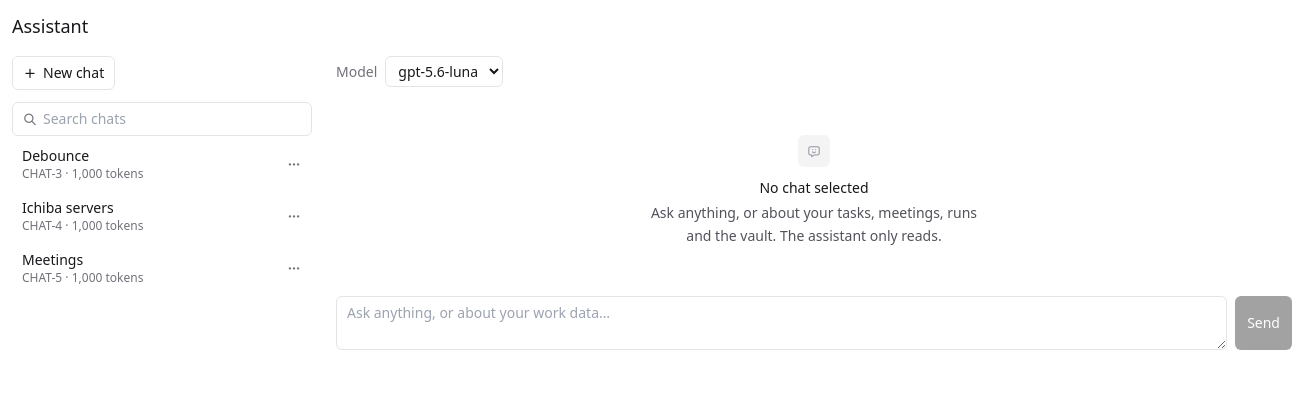
Test: chat list › AC-6: deleting the open chat empties the thread pane
The image size is (1304, 404).
Click the button "Debounce CHAT-3 · 1,000 tokens" at {"x": 144, "y": 164}, box x1=12 y1=140 x2=276 y2=188
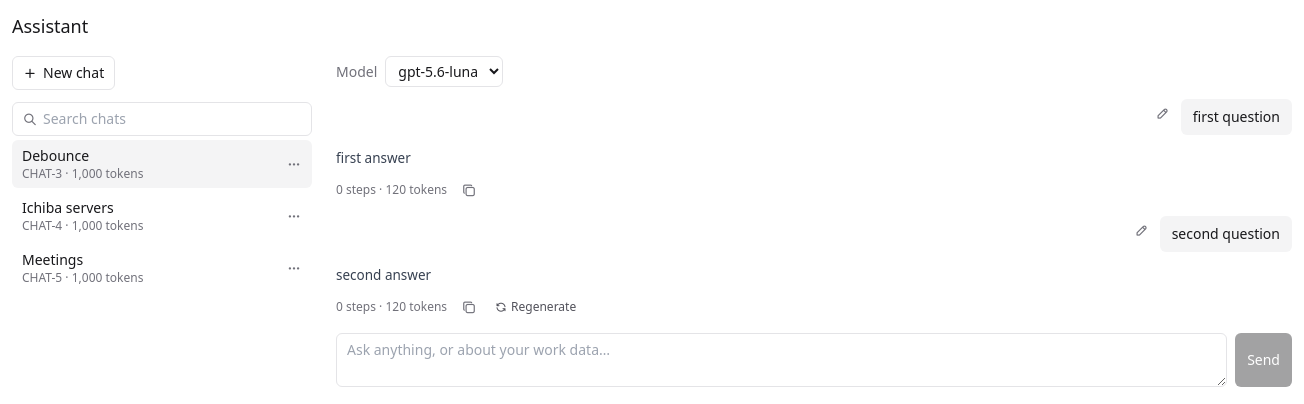
Expected: the text "second answer" is shown, x1=336 y1=266 x2=431 y2=284
Click the 1st button named "Chat actions" at {"x": 294, "y": 164}, box x1=280 y1=150 x2=308 y2=178
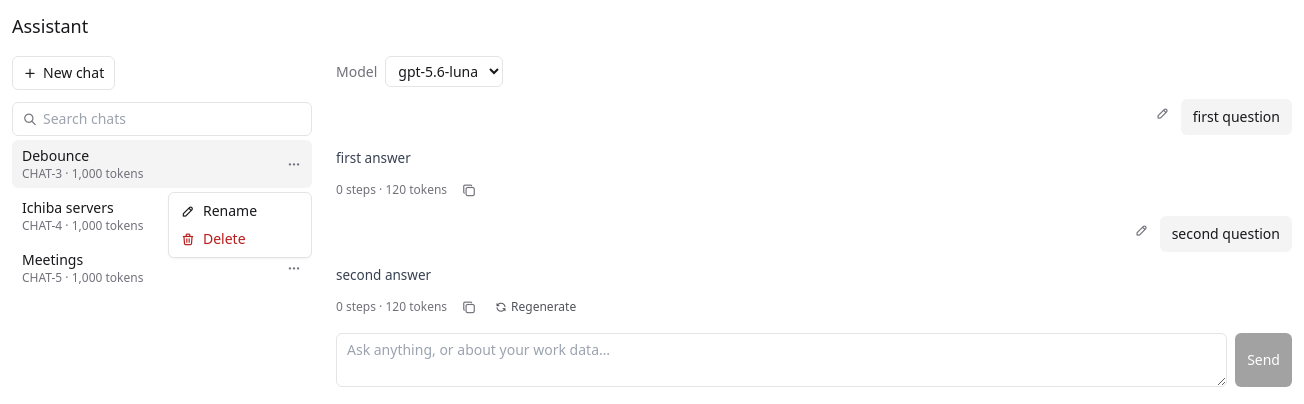
Click the menu item "Delete" at {"x": 240, "y": 239}, box x1=173 y1=225 x2=307 y2=253
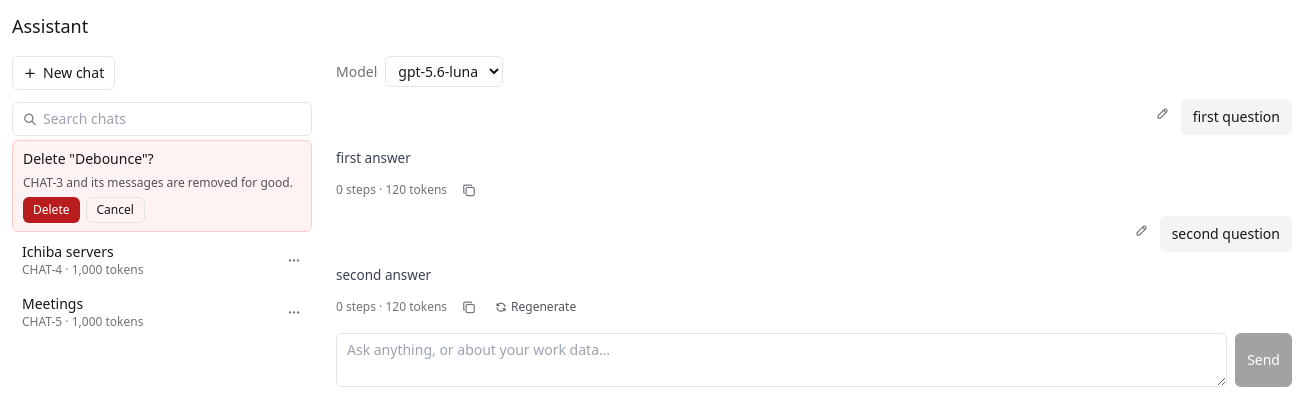
Click the button "Delete" at {"x": 51, "y": 210}, box x1=23 y1=197 x2=80 y2=223
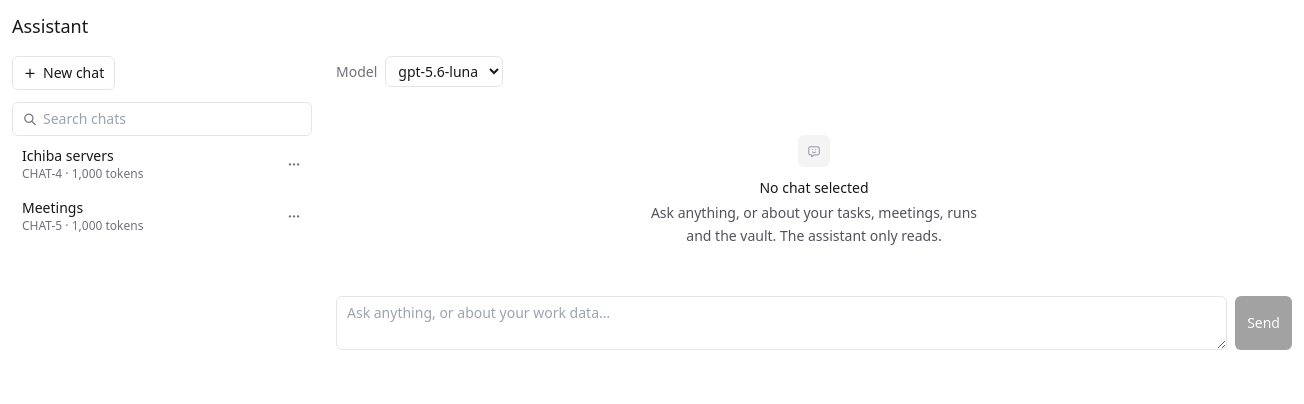
Expected: the text "second answer" is gone
Expected: the text "No chat selected" is shown, x1=760 y1=177 x2=869 y2=198
